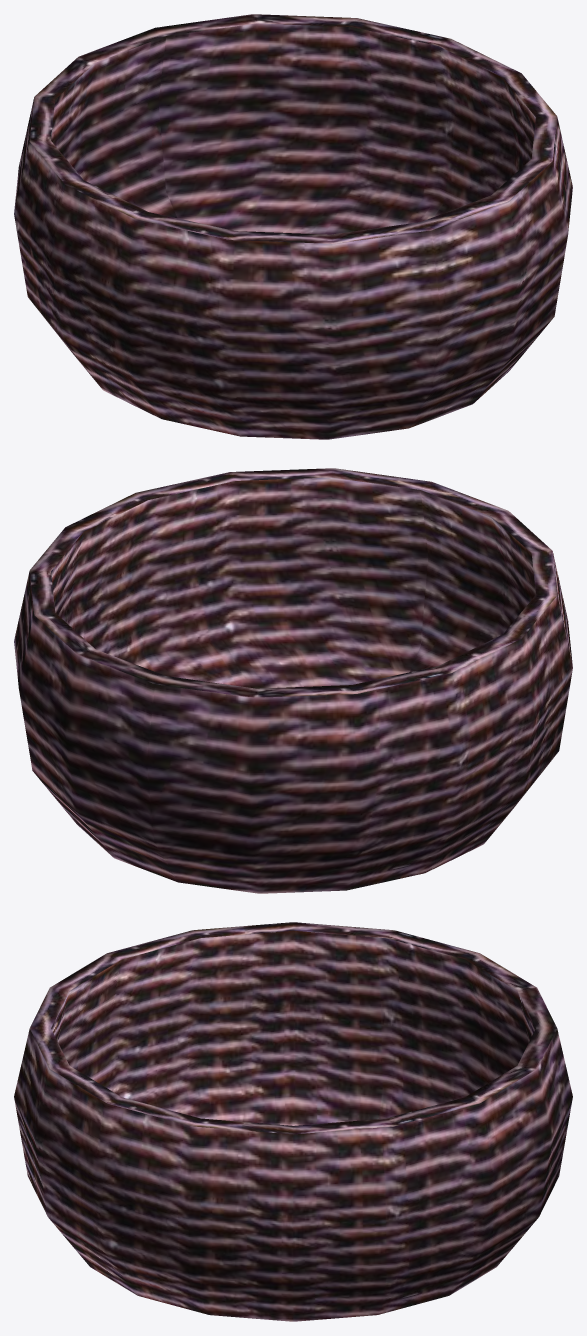
File: Basket.fbx
3 views of the same model, one above another, from view 1: azimuth 30°, elevation 25°; view 2: azimuth 150°, elevation 25°; view 3: azimuth 270°, elevation 25° (orthographic). The views are drawn at different scales.
Parts seen in each view (by area): view 1: Cylinder; view 2: Cylinder; view 3: Cylinder.
Part boxes in pixels (box(x1,y1,x2,y2)): Cylinder: box(14, 14, 572, 439); Cylinder: box(14, 468, 572, 893); Cylinder: box(14, 922, 572, 1321).
Bounding box in the file's own units: 2.12 × 0.9 × 2.22.
Materials: 1 (1 with a texture image).
